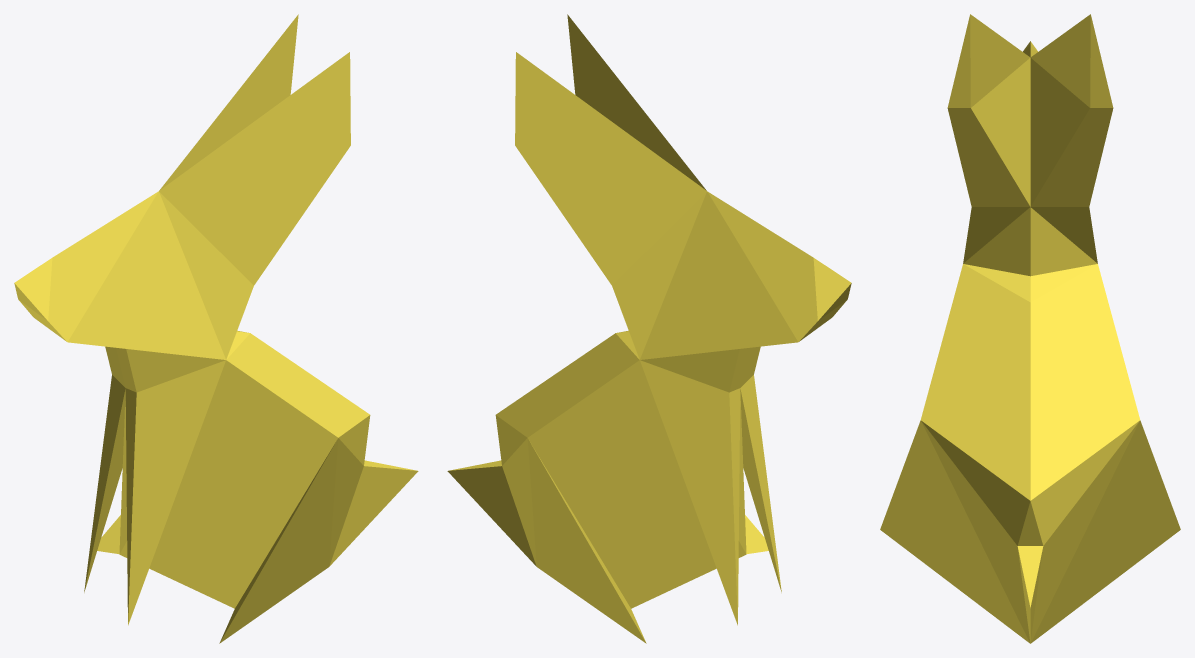
Rendered from Rabbit.fbx.
The picture shows the model from 3 angles, left to right: view 1: azimuth 30°, elevation 25°; view 2: azimuth 150°, elevation 25°; view 3: azimuth 270°, elevation 25°; orthographic projection. The views are drawn at different scales.
Parts seen in each view (by area): view 1: Rabbit; view 2: Rabbit; view 3: Rabbit.
Boxes of the visible parts, box(x1,y1,x2,y2) form: Rabbit: box(14, 14, 418, 643); Rabbit: box(447, 14, 851, 643); Rabbit: box(880, 14, 1180, 643).
Size of the model in its own units: 112 by 142 by 61.77.
